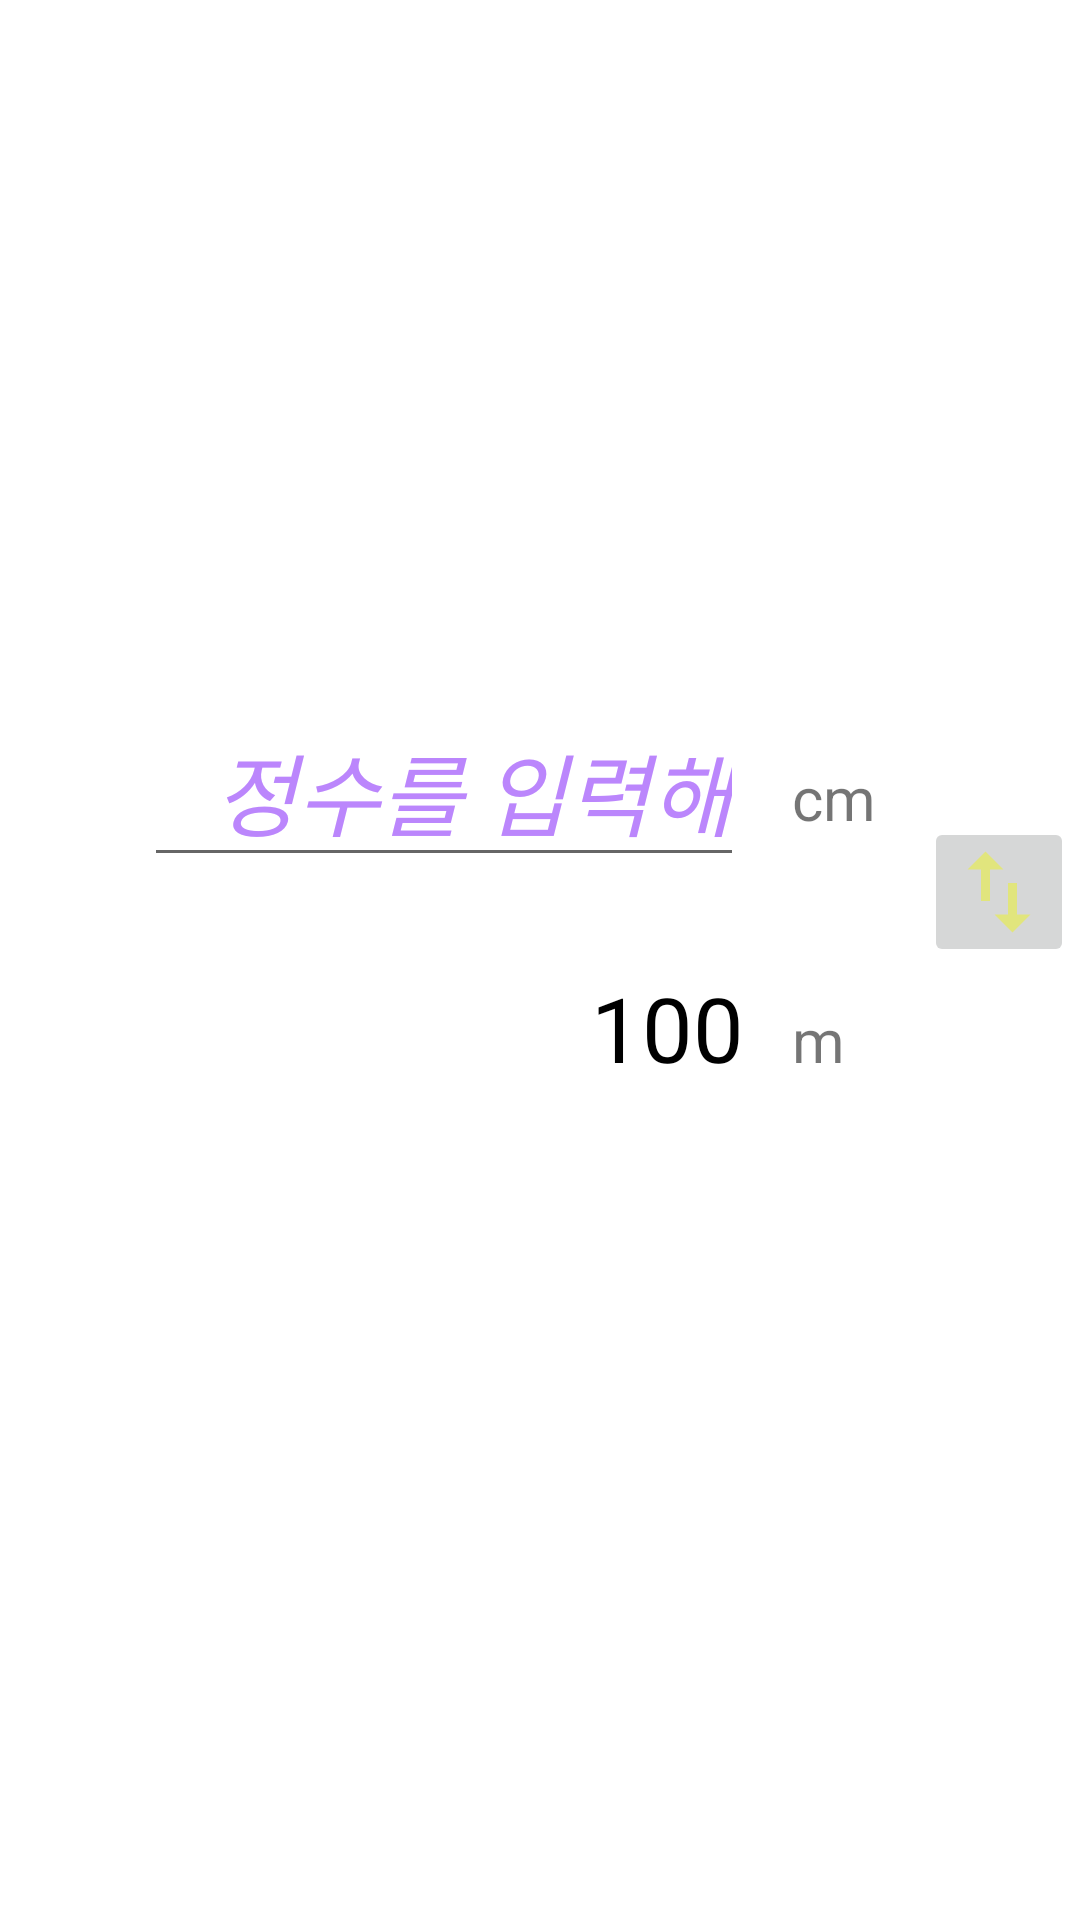

Where icons sit on this 1080x1920 app screen, as region(x1, y1, x2, y2):
swap vert: region(936, 835, 1062, 949)
